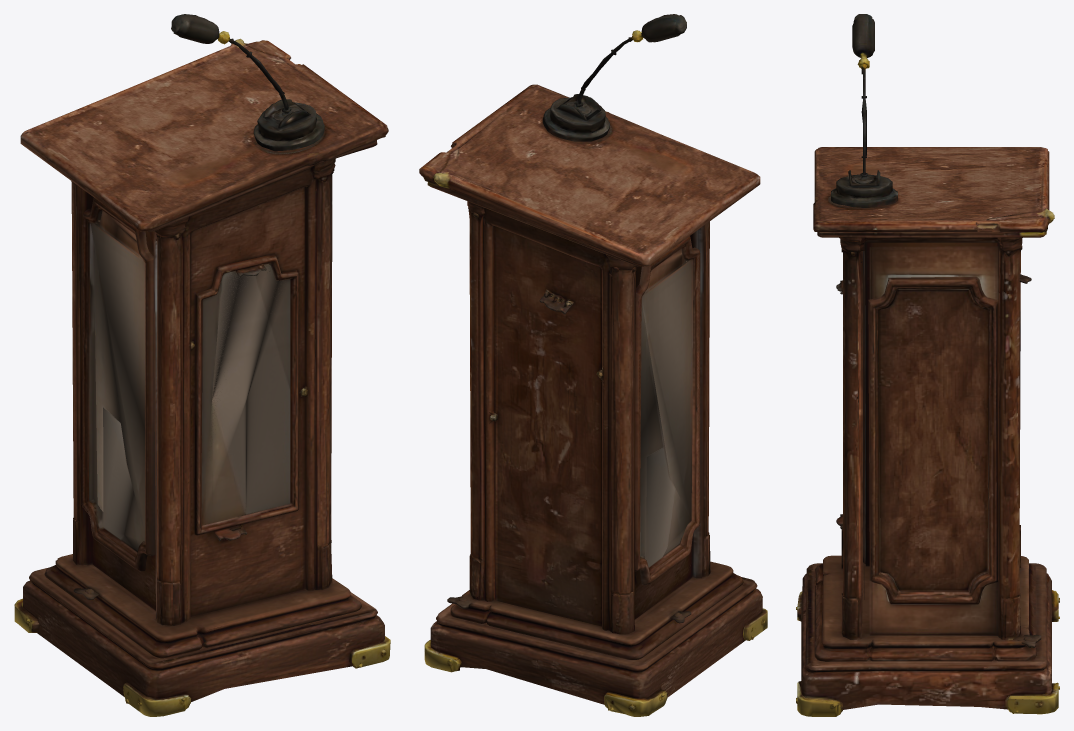
Rendered from theme-ceremony-lectern-v05.glb.
3 views of the same model, side by side, from view 1: azimuth 30°, elevation 25°; view 2: azimuth 150°, elevation 25°; view 3: azimuth 270°, elevation 25° (orthographic). The views are drawn at different scales.
Parts seen in each view (by area): view 1: tripo_node_67d92269-1dd2-477a-8536-133382833da2; view 2: tripo_node_67d92269-1dd2-477a-8536-133382833da2; view 3: tripo_node_67d92269-1dd2-477a-8536-133382833da2.
Part boxes in pixels (x1=…): tripo_node_67d92269-1dd2-477a-8536-133382833da2: x1=14, y1=14, x2=390, y2=716; tripo_node_67d92269-1dd2-477a-8536-133382833da2: x1=419, y1=14, x2=767, y2=716; tripo_node_67d92269-1dd2-477a-8536-133382833da2: x1=796, y1=14, x2=1059, y2=716.
Size of the model in its own units: 0.4814 by 1.2 by 0.4626.
1 material, 1 textured.
